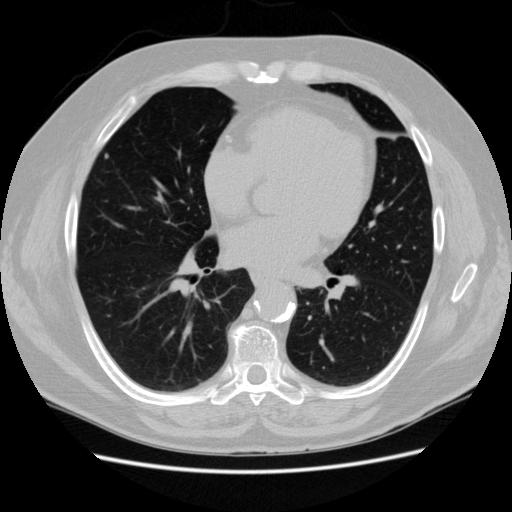nodule: (101, 150, 112, 161)
